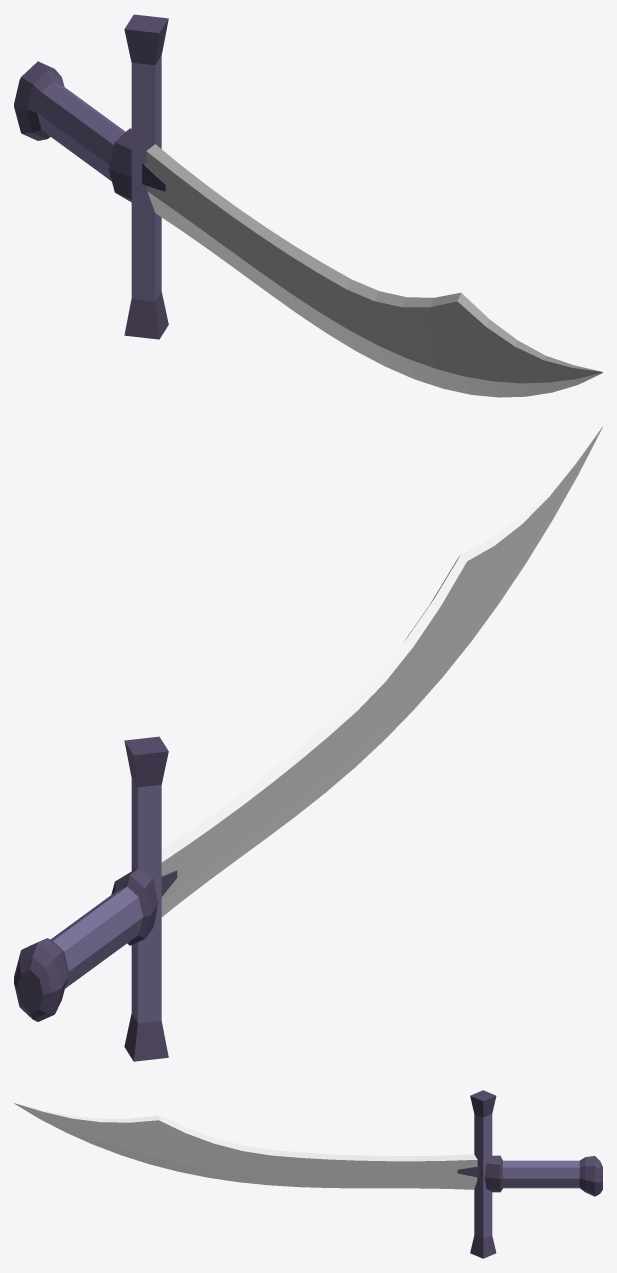
The model's file is SwordRetake.fbx.
The picture shows the model from 3 angles, top to bottom: view 1: azimuth 30°, elevation 25°; view 2: azimuth 150°, elevation 25°; view 3: azimuth 270°, elevation 25°; orthographic projection. The views are drawn at different scales.
Parts seen in each view (by area): view 1: Sword; view 2: Sword; view 3: Sword.
Part boxes in pixels (box(x1,y1,x2,y2)): Sword: box(14, 14, 602, 397); Sword: box(14, 426, 602, 1061); Sword: box(14, 1090, 602, 1258).
Bounding box in the file's own units: 4.2 × 25.79 × 87.41.
